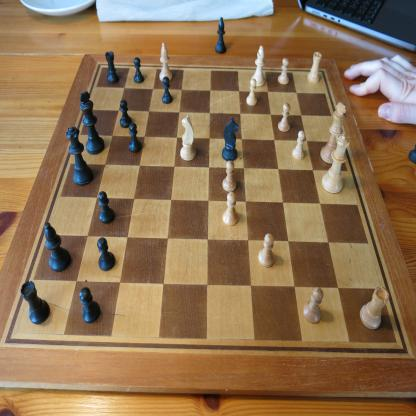black-bishop: (41, 220, 74, 276), (214, 16, 229, 57)
black-king: (78, 90, 106, 156)
black-knight: (222, 116, 240, 161)
black-pawn: (78, 286, 103, 326), (94, 236, 117, 273), (95, 190, 117, 226), (126, 121, 144, 155), (159, 76, 175, 106), (118, 97, 132, 128), (130, 57, 145, 85)
black-queen: (64, 127, 96, 188)
black-rook: (20, 280, 52, 327), (103, 50, 121, 87)
white-bishop: (156, 39, 173, 85), (251, 44, 268, 88)
white-king: (320, 100, 348, 165)
white-knight: (180, 114, 196, 161)
white-pawn: (302, 286, 325, 326), (221, 191, 241, 228), (257, 234, 277, 269), (222, 159, 239, 193), (244, 76, 260, 110), (291, 130, 308, 160), (277, 101, 292, 135), (278, 57, 291, 88)
white-queen: (321, 131, 351, 196)
white-rook: (359, 284, 391, 330), (306, 50, 324, 86)
